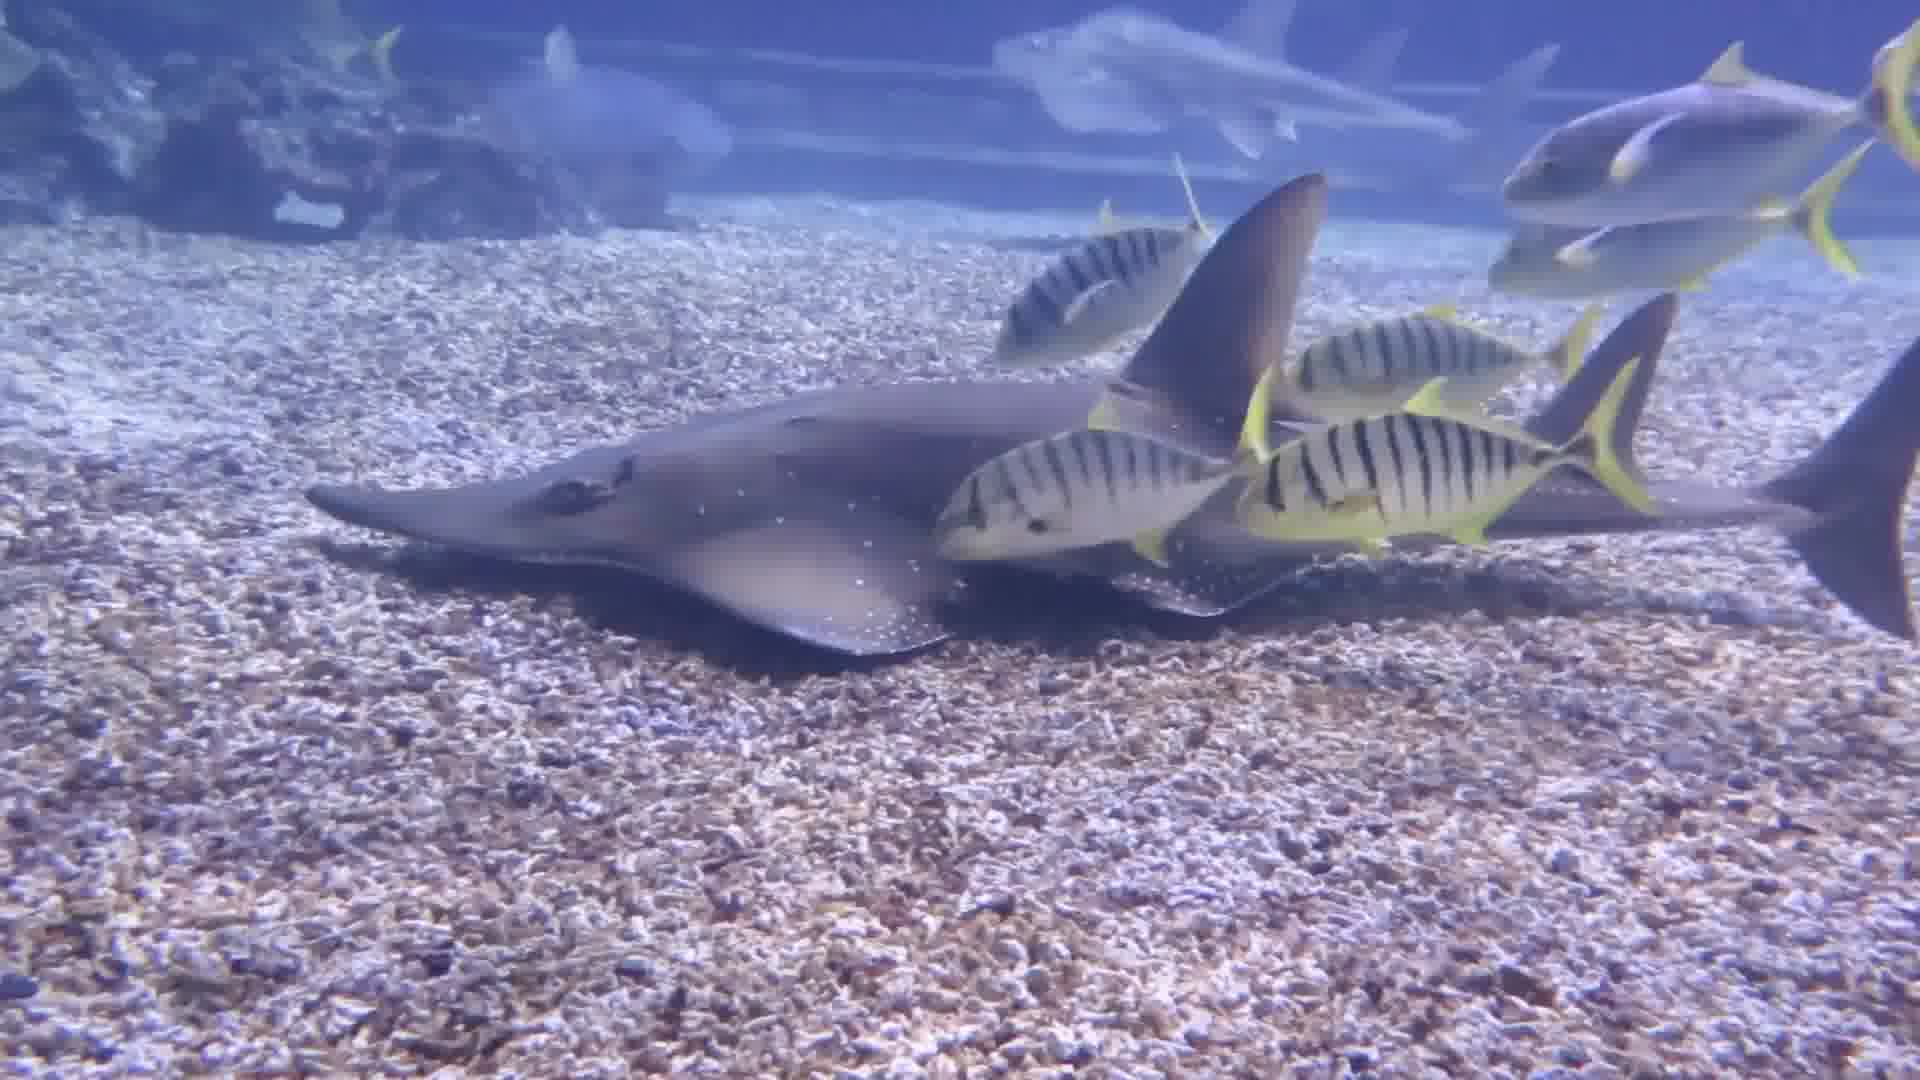Rhychobatus djiddensis: (272, 199, 1920, 678)
